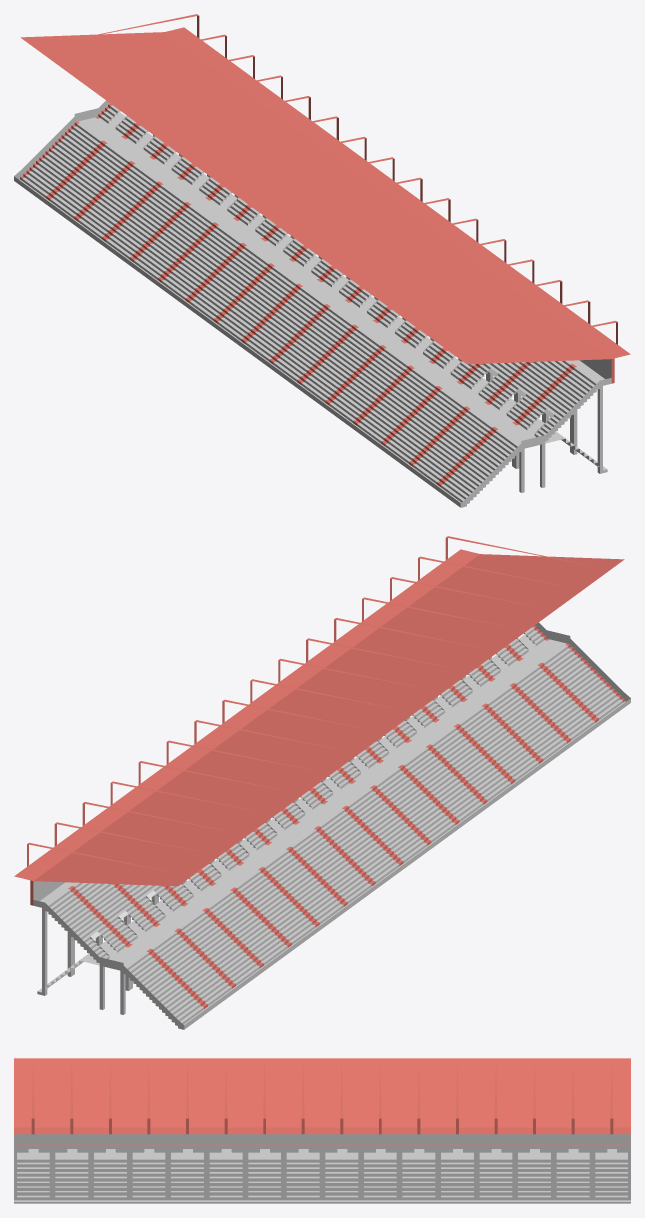
Rendered from Grandstand_.glb.
3 views of the same model, one above another, from view 1: azimuth 30°, elevation 25°; view 2: azimuth 150°, elevation 25°; view 3: azimuth 270°, elevation 25° (orthographic). The views are drawn at different scales.
Visible parts, largest first — view 1: Polygon (×3), Polygon.1; view 2: Polygon (×3), Polygon.1; view 3: Polygon (×2), Polygon.1.
Boxes of the visible parts, x1=… form: Polygon (×3): x1=20, y1=14, x2=630, y2=492; Polygon.1: x1=14, y1=100, x2=611, y2=507; Polygon (×3): x1=14, y1=536, x2=624, y2=1014; Polygon.1: x1=33, y1=622, x2=630, y2=1029; Polygon (×2): x1=14, y1=1058, x2=630, y2=1200; Polygon.1: x1=14, y1=1134, x2=630, y2=1203.
Bounding box in the file's own units: 1661 × 1325 × 7555.
